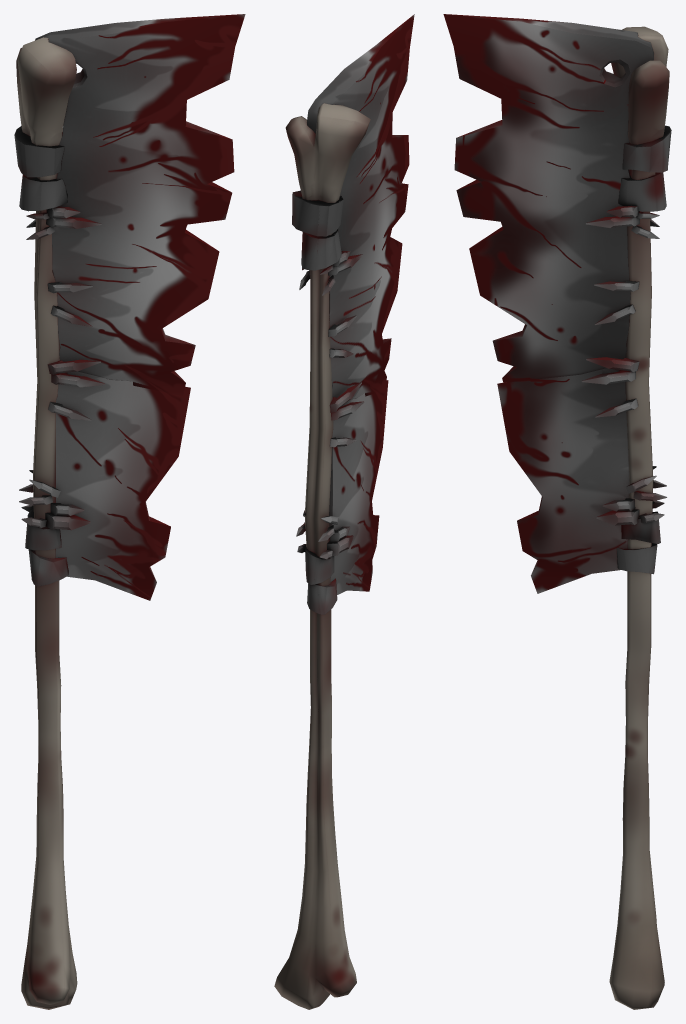
The model's file is PigButcherKnife.fbx.
3 views of the same model, side by side, from view 1: azimuth 90°, elevation 25°; view 2: azimuth 150°, elevation 25°; view 3: azimuth 270°, elevation 25° (orthographic). The views are drawn at different scales.
Parts seen in each view (by area): view 1: Blade, Bone, Spikes, KnifeHolder; view 2: Blade, Bone, KnifeHolder, Spikes; view 3: Blade, Bone, Spikes, KnifeHolder.
Part boxes in pixels (x1=…): Blade: x1=35, y1=14, x2=245, y2=600; Bone: x1=16, y1=37, x2=77, y2=1009; Spikes: x1=19, y1=206, x2=105, y2=530; KnifeHolder: x1=14, y1=126, x2=68, y2=586; Blade: x1=307, y1=14, x2=414, y2=594; Bone: x1=274, y1=103, x2=370, y2=1009; KnifeHolder: x1=292, y1=190, x2=343, y2=614; Spikes: x1=296, y1=251, x2=364, y2=559; Blade: x1=443, y1=14, x2=653, y2=593; Bone: x1=609, y1=26, x2=669, y2=1009; Spikes: x1=581, y1=205, x2=666, y2=525; KnifeHolder: x1=617, y1=125, x2=671, y2=574.
Size of the model in its own units: 20.15 by 203 by 42.56.
6 materials, 5 textured.
